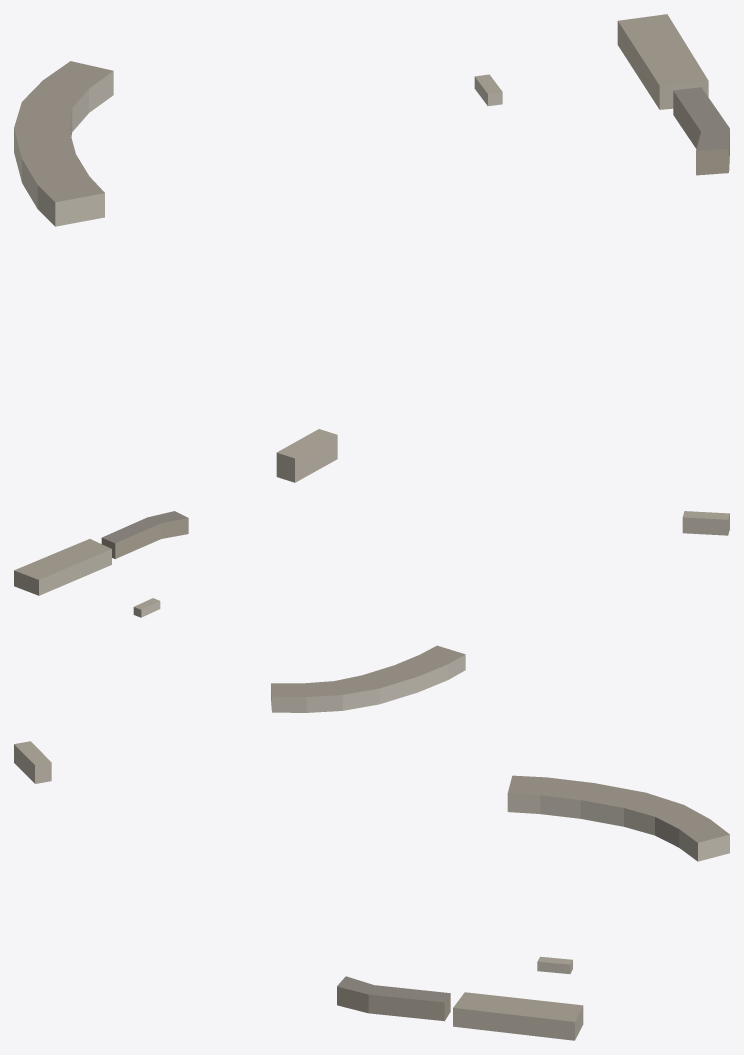
3 renders of one model, top to bottom at view 1: azimuth 30°, elevation 25°; view 2: azimuth 150°, elevation 25°; view 3: azimuth 270°, elevation 25°, orthographic. The views are drawn at different scales.
Bounding box in the file's own units: 30.87 × 1.08 × 33.35.
